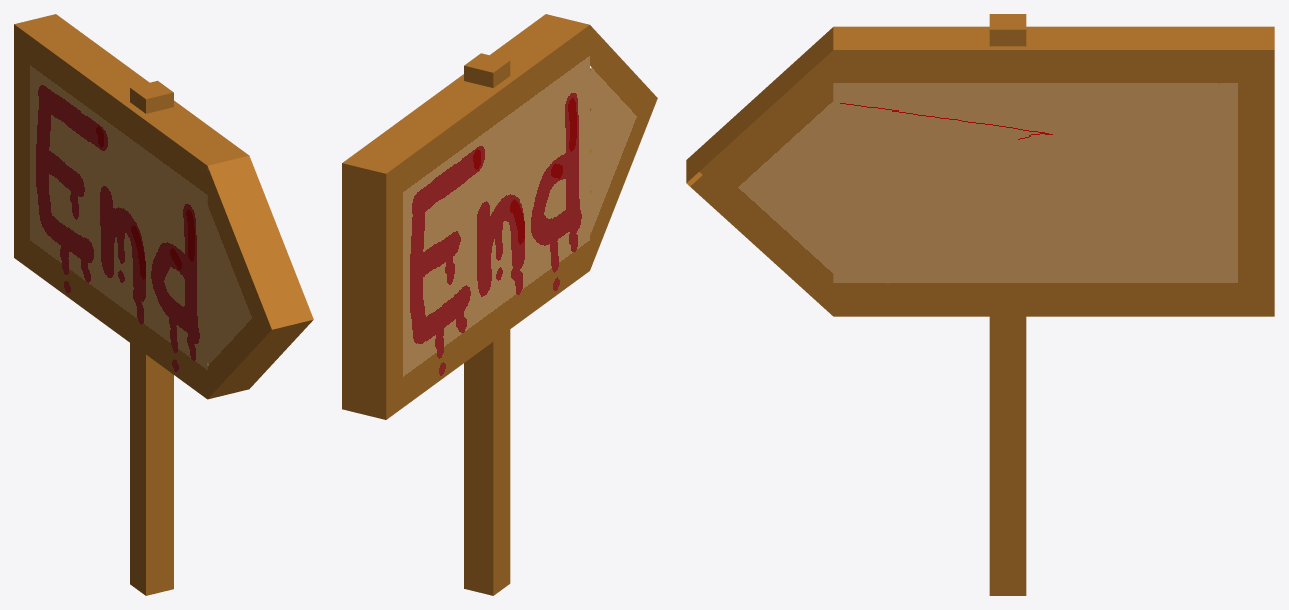
File: Panneau END.gltf
3 renders of one model, left to right at view 1: azimuth 30°, elevation 25°; view 2: azimuth 150°, elevation 25°; view 3: azimuth 270°, elevation 25°, orthographic. The views are drawn at different scales.
Parts seen in each view (by area): view 1: mesh (×2); view 2: mesh (×2); view 3: mesh (×2).
Part boxes in pixels (left/top/right/bottom): mesh (×2): left=14, top=14, right=313, bottom=595; mesh (×2): left=342, top=14, right=657, bottom=595; mesh (×2): left=686, top=14, right=1274, bottom=595.
Size of the model in its own units: 0.0938 by 1.06 by 1.
2 materials, 2 textured.
